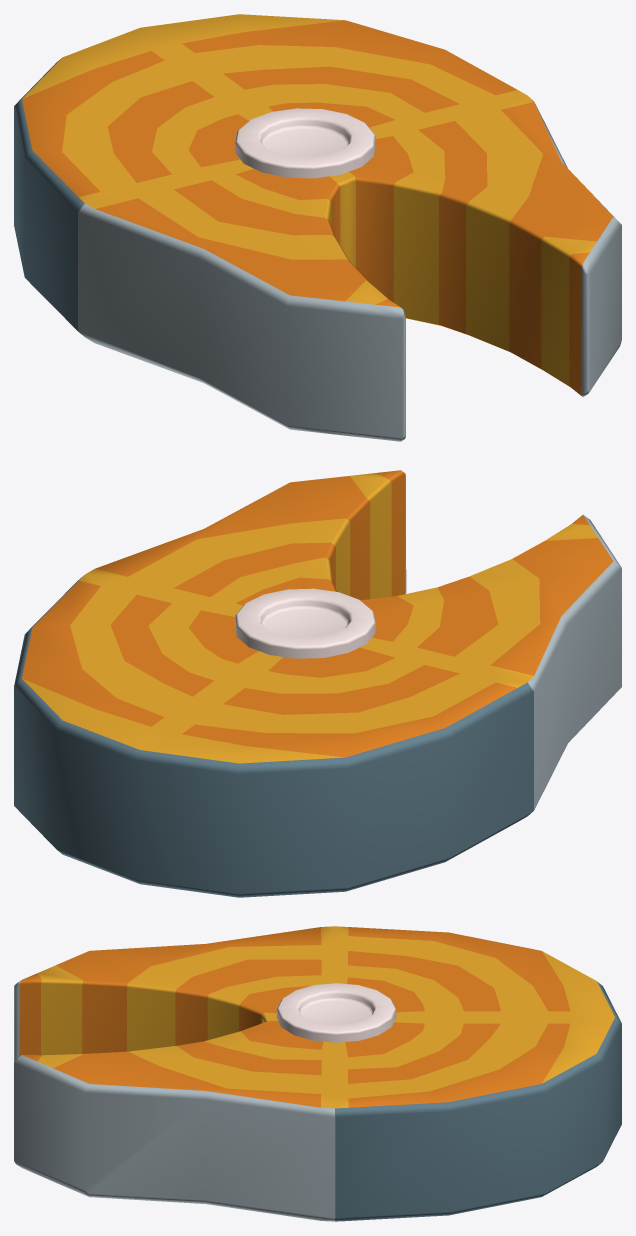
Rendered from Salmon_2_Steak_2.fbx.
The picture shows the model from 3 angles, top to bottom: view 1: azimuth 30°, elevation 25°; view 2: azimuth 150°, elevation 25°; view 3: azimuth 270°, elevation 25°; orthographic projection. The views are drawn at different scales.
Visible parts, largest first — view 1: Salmon_2_Steak_2; view 2: Salmon_2_Steak_2; view 3: Salmon_2_Steak_2.
Part boxes in pixels (bbox=[...]): Salmon_2_Steak_2: bbox=[14, 14, 621, 441]; Salmon_2_Steak_2: bbox=[14, 470, 621, 897]; Salmon_2_Steak_2: bbox=[14, 926, 621, 1221].
Bounding box in the file's own units: 20.5 × 6.79 × 28.06.
